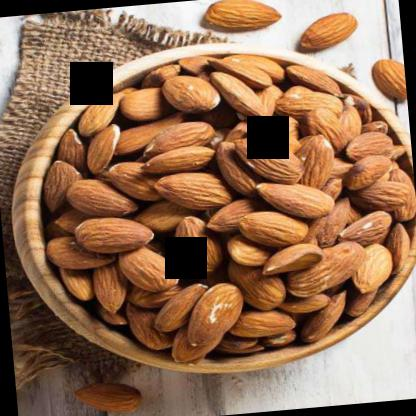almond: (282, 240, 372, 300), (167, 214, 228, 286), (229, 132, 305, 189), (182, 284, 245, 346), (70, 212, 154, 258), (113, 244, 181, 298), (156, 170, 236, 215), (60, 176, 140, 221), (258, 176, 330, 222), (209, 67, 269, 122), (194, 0, 288, 35), (239, 208, 309, 254), (156, 69, 223, 115), (138, 119, 216, 158), (294, 12, 359, 53), (140, 146, 221, 177), (339, 129, 399, 162), (366, 57, 406, 104), (342, 154, 394, 190)
